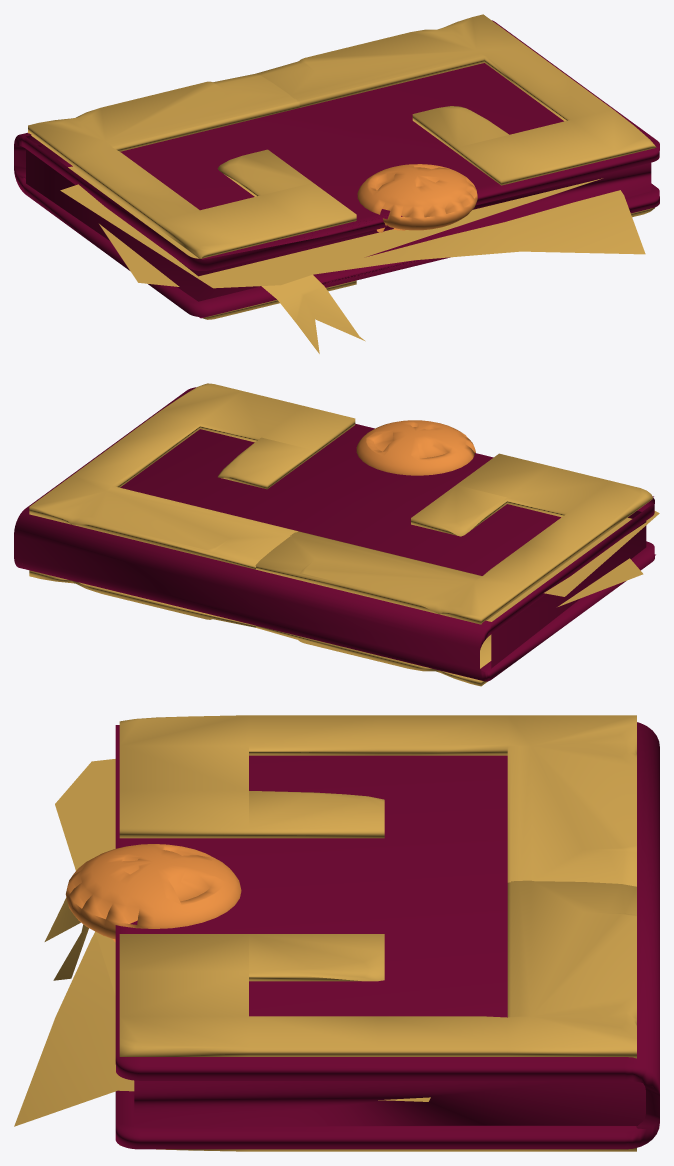
The model's file is udated book 1.fbx.
3 renders of one model, top to bottom at view 1: azimuth 30°, elevation 25°; view 2: azimuth 150°, elevation 25°; view 3: azimuth 270°, elevation 25°, orthographic. The views are drawn at different scales.
Parts seen in each view (by area): view 1: Sphere; view 2: Sphere; view 3: Sphere.
Part boxes in pixels (x1,y1,x2,y2): Sphere: (14, 14, 659, 353); Sphere: (14, 383, 659, 686); Sphere: (14, 715, 659, 1151).
Bounding box in the file's own units: 206 × 48.52 × 157.
